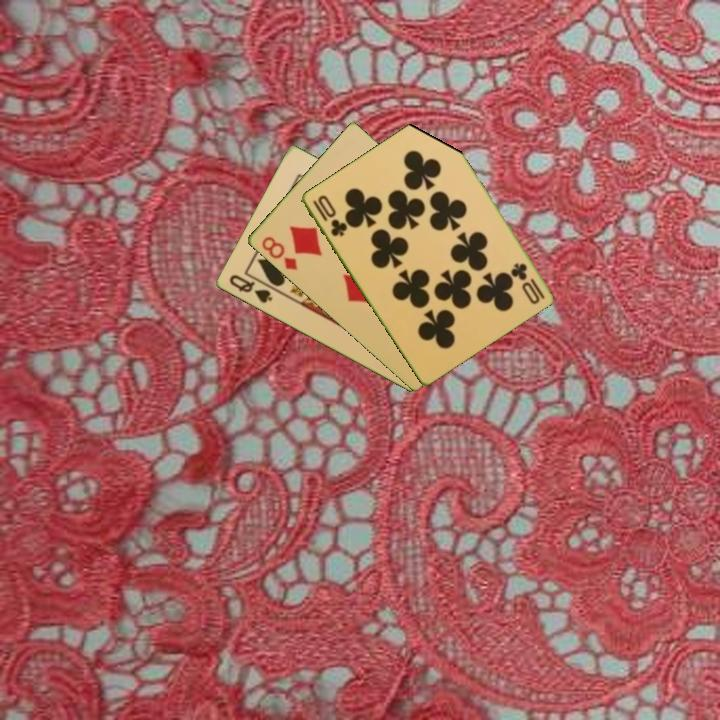10c: (309, 191, 349, 239), (508, 259, 547, 307)
8d: (258, 233, 300, 273)
Qs: (225, 271, 275, 306)
